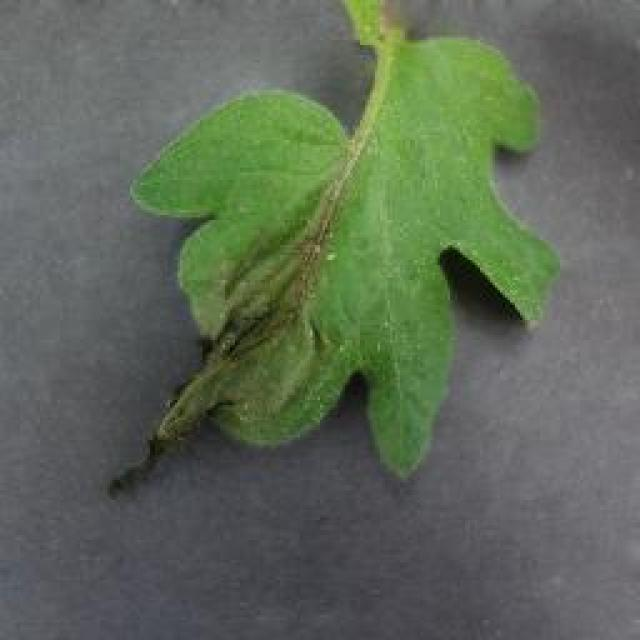Tomato Late Blight: (145, 214, 325, 504)
